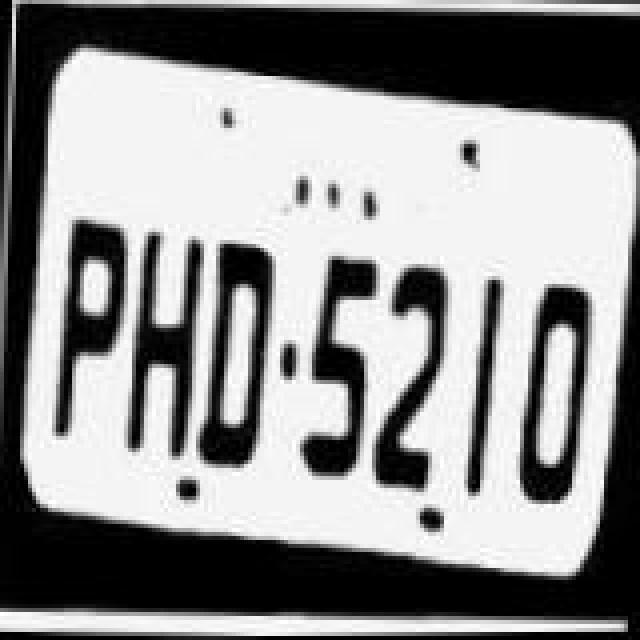1: (446, 268, 506, 500)
2: (370, 250, 454, 494)
5: (298, 236, 382, 476)
D: (194, 226, 278, 494)
H: (124, 218, 208, 462)
O: (514, 276, 598, 512)
P: (42, 206, 138, 446)
